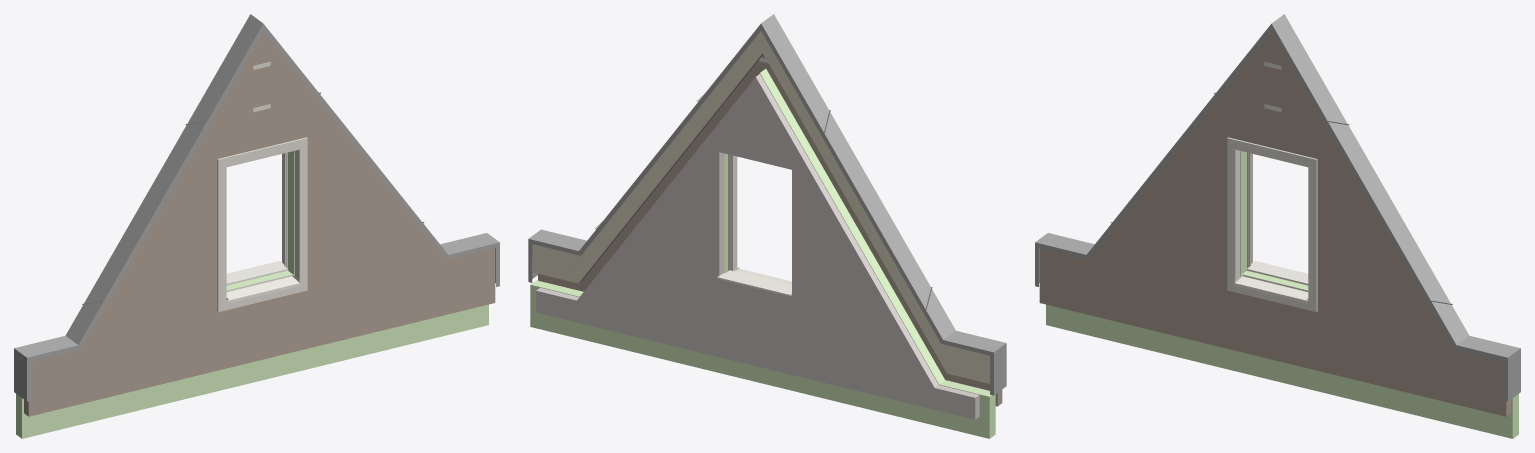
The picture shows the model from 3 angles, left to right: view 1: azimuth 30°, elevation 25°; view 2: azimuth 150°, elevation 25°; view 3: azimuth 330°, elevation 25°; orthographic projection.
Visible parts, largest first — view 1: [8298742]21_Metselwerk Sonsbeek 100mm, Aberson 48N13, [8299162]AL_Zinken_Dakafwerking_Standaard, [8298542]21_isolatie 131mm, [8298753]21_Metselwerk Wit HV WF 100mm, Aberson 35N17, [8298752]21_Metselwerk Wit HV WF 100mm, Aberson 35N17, [8298751]21_Metselwerk Wit HV WF 100mm, Aberson 35N17 Rollaa, [8298575]Merk G_Waterslag, [8298576]Merk G_Ventserbank, [8298790]21_Metselwerk Wit HV WF 100mm, Aberson 35N17 Rollaa, [8298543]21_prefab betonwand 90mm; view 2: [8298543]21_prefab betonwand 90mm, [8298542]21_isolatie 131mm, [8299162]AL_Zinken_Dakafwerking_Standaard, [8298705]27_Dakopstand HSB rekje met plaatmateriaal 80mm, [8298742]21_Metselwerk Sonsbeek 100mm, Aberson 48N13, [8298714]27_Plaatmateriaal 10mm, [8298753]21_Metselwerk Wit HV WF 100mm, Aberson 35N17, [8298576]Merk G_Ventserbank; view 3: [8298742]21_Metselwerk Sonsbeek 100mm, Aberson 48N13, [8299162]AL_Zinken_Dakafwerking_Standaard, [8298542]21_isolatie 131mm, [8298752]21_Metselwerk Wit HV WF 100mm, Aberson 35N17, [8298753]21_Metselwerk Wit HV WF 100mm, Aberson 35N17, [8298751]21_Metselwerk Wit HV WF 100mm, Aberson 35N17 Rollaa, [8298575]Merk G_Waterslag, [8298576]Merk G_Ventserbank, [8298790]21_Metselwerk Wit HV WF 100mm, Aberson 35N17 Rollaa, [8298543]21_prefab betonwand 90mm.
Boxes of the visible parts, <box> form: [8298742]21_Metselwerk Sonsbeek 100mm, Aberson 48N13: <box>24,31,495,416</box>; [8299162]AL_Zinken_Dakafwerking_Standaard: <box>14,14,499,401</box>; [8298542]21_isolatie 131mm: <box>16,151,488,438</box>; [8298753]21_Metselwerk Wit HV WF 100mm, Aberson 35N17: <box>294,147,307,282</box>; [8298752]21_Metselwerk Wit HV WF 100mm, Aberson 35N17: <box>217,167,226,302</box>; [8298751]21_Metselwerk Wit HV WF 100mm, Aberson 35N17 Rollaa: <box>217,137,307,169</box>; [8298575]Merk G_Waterslag: <box>226,274,299,303</box>; [8298576]Merk G_Ventserbank: <box>226,261,288,285</box>; [8298790]21_Metselwerk Wit HV WF 100mm, Aberson 35N17 Rollaa: <box>217,281,307,311</box>; [8298543]21_prefab betonwand 90mm: <box>282,152,287,268</box>; [8298543]21_prefab betonwand 90mm: <box>536,74,979,419</box>; [8298542]21_isolatie 131mm: <box>530,69,995,438</box>; [8299162]AL_Zinken_Dakafwerking_Standaard: <box>528,14,1006,395</box>; [8298705]27_Dakopstand HSB rekje met plaatmateriaal 80mm: <box>533,31,989,383</box>; [8298742]21_Metselwerk Sonsbeek 100mm, Aberson 48N13: <box>538,54,1002,406</box>; [8298714]27_Plaatmateriaal 10mm: <box>532,244,989,371</box>; [8298753]21_Metselwerk Wit HV WF 100mm, Aberson 35N17: <box>728,154,737,270</box>; [8298576]Merk G_Ventserbank: <box>717,270,791,296</box>; [8298742]21_Metselwerk Sonsbeek 100mm, Aberson 48N13: <box>1039,31,1510,416</box>; [8299162]AL_Zinken_Dakafwerking_Standaard: <box>1035,14,1520,401</box>; [8298542]21_isolatie 131mm: <box>1046,151,1518,438</box>; [8298752]21_Metselwerk Wit HV WF 100mm, Aberson 35N17: <box>1227,147,1240,282</box>; [8298753]21_Metselwerk Wit HV WF 100mm, Aberson 35N17: <box>1308,167,1317,302</box>; [8298751]21_Metselwerk Wit HV WF 100mm, Aberson 35N17 Rollaa: <box>1227,137,1317,169</box>; [8298575]Merk G_Waterslag: <box>1235,274,1308,303</box>; [8298576]Merk G_Ventserbank: <box>1246,261,1308,285</box>; [8298790]21_Metselwerk Wit HV WF 100mm, Aberson 35N17 Rollaa: <box>1227,281,1317,311</box>; [8298543]21_prefab betonwand 90mm: <box>1247,152,1252,268</box>.
Size of the model in its own units: 5.78 by 4.25 by 0.45.
